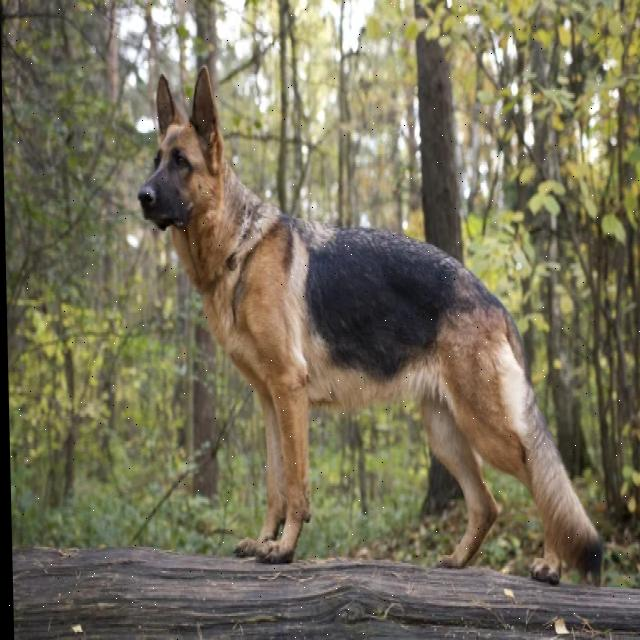GERMAN_SHEPHERD: (120, 67, 612, 599)
